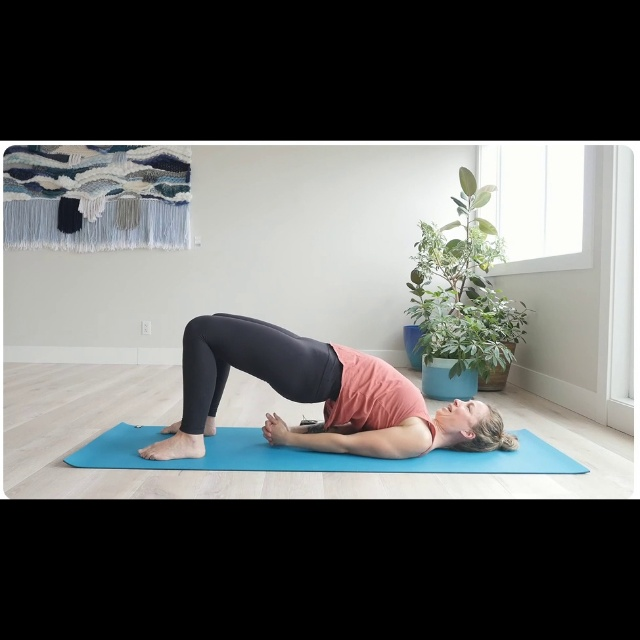Bridge_Pose: (134, 308, 511, 469)
